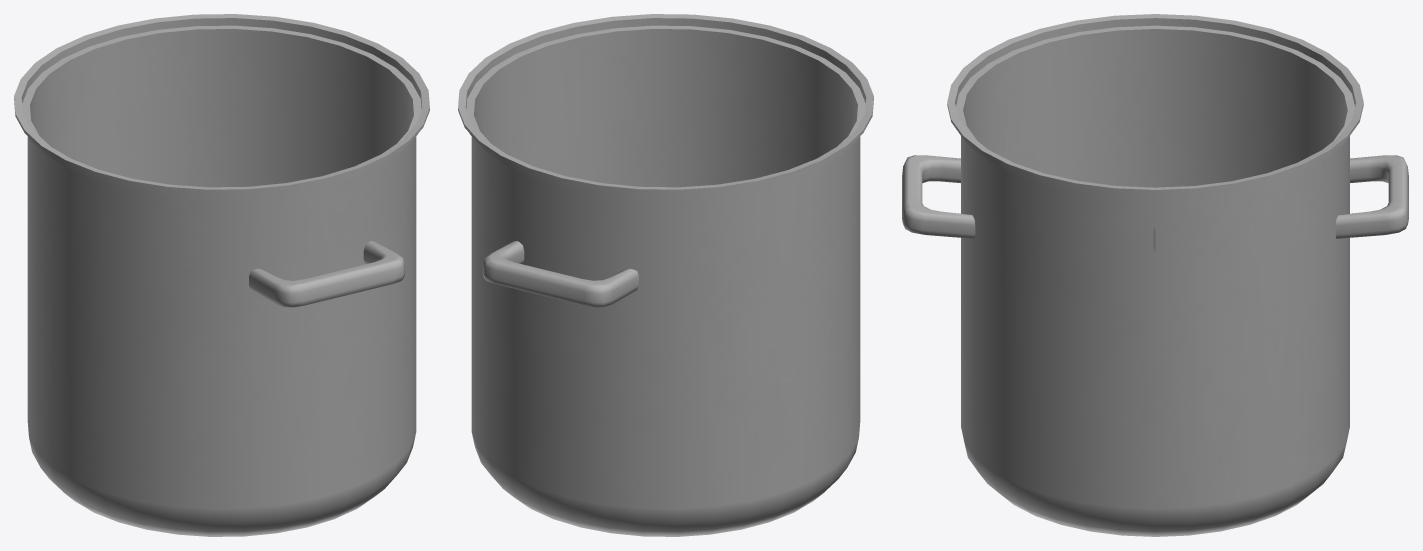
The model's file is SM_Pot_01.fbx.
The picture shows the model from 3 angles, left to right: view 1: azimuth 30°, elevation 25°; view 2: azimuth 150°, elevation 25°; view 3: azimuth 270°, elevation 25°; orthographic projection.
Parts seen in each view (by area): view 1: SM_Pot_01_LOD0; view 2: SM_Pot_01_LOD0; view 3: SM_Pot_01_LOD0.
Boxes of the visible parts, box(x1,y1,x2,y2) form: SM_Pot_01_LOD0: box(14, 14, 429, 536); SM_Pot_01_LOD0: box(458, 14, 873, 536); SM_Pot_01_LOD0: box(902, 14, 1408, 536).
Bounding box in the file's own units: 25.69 × 31.25 × 24.7.
Materials: 1 (1 with a texture image).
